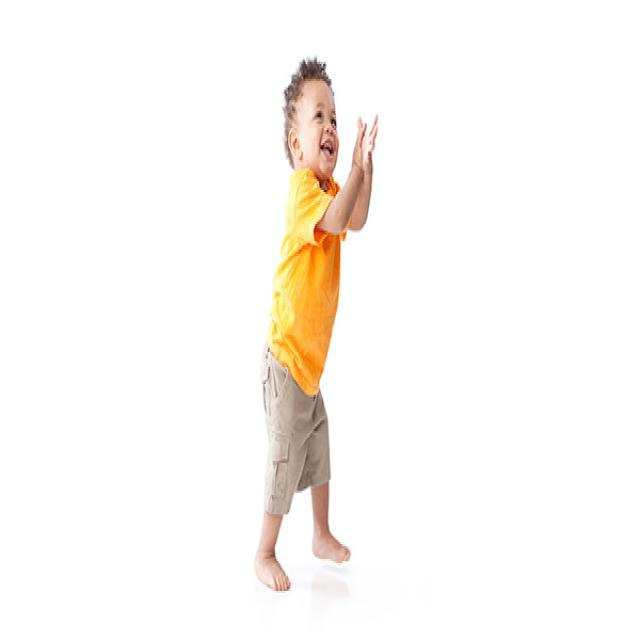child: (253, 54, 379, 592)
